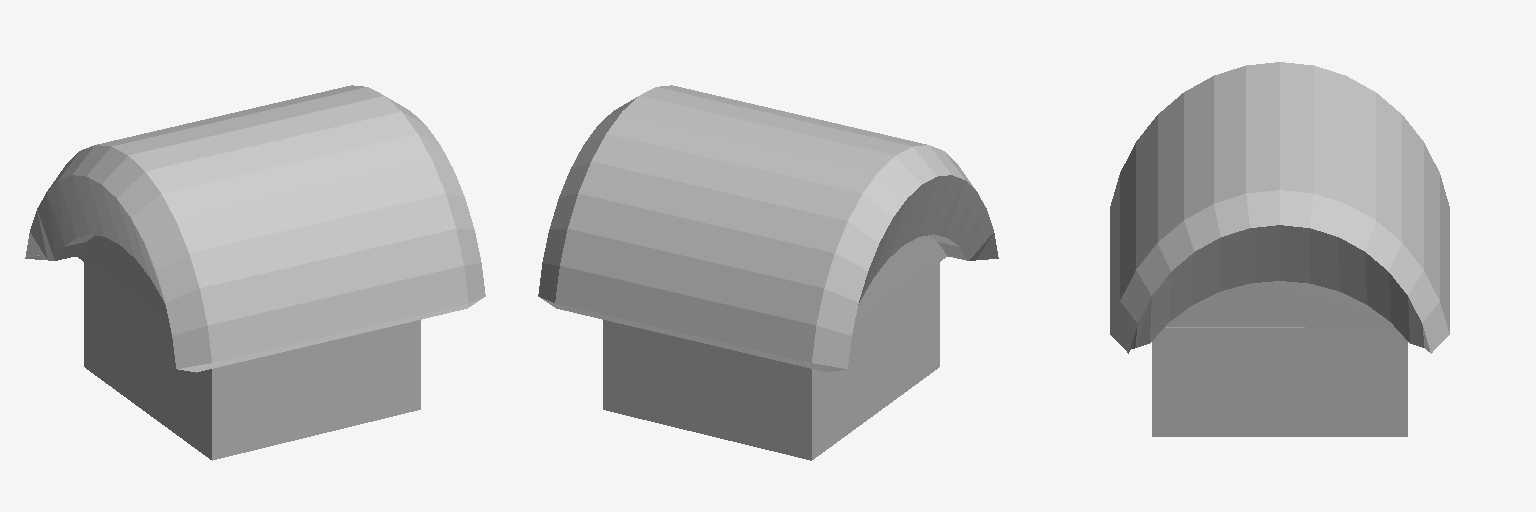
Rendered from house.obj.
The picture shows the model from 3 angles: view 1: azimuth 30°, elevation 25°; view 2: azimuth 150°, elevation 25°; view 3: azimuth 270°, elevation 25°; orthographic projection.
Parts seen in each view (by area): view 1: thatchHouse_Cube.001; view 2: thatchHouse_Cube.001; view 3: thatchHouse_Cube.001.
Boxes of the visible parts, <box> form: thatchHouse_Cube.001: <box>25,85,485,460</box>; thatchHouse_Cube.001: <box>538,85,998,460</box>; thatchHouse_Cube.001: <box>1110,62,1449,436</box>.
Size of the model in its own units: 1.53 by 1.24 by 1.45.